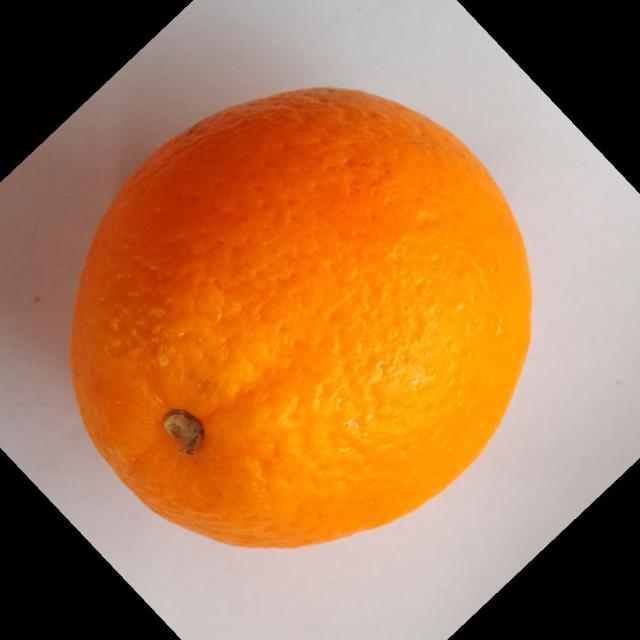fresh orange: (68, 85, 533, 549)
